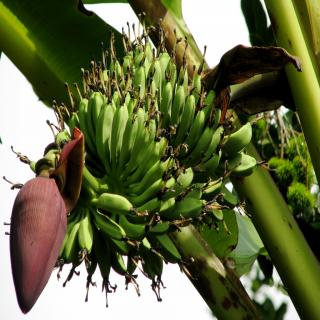Banana: (3, 12, 278, 308), (92, 195, 147, 215)
